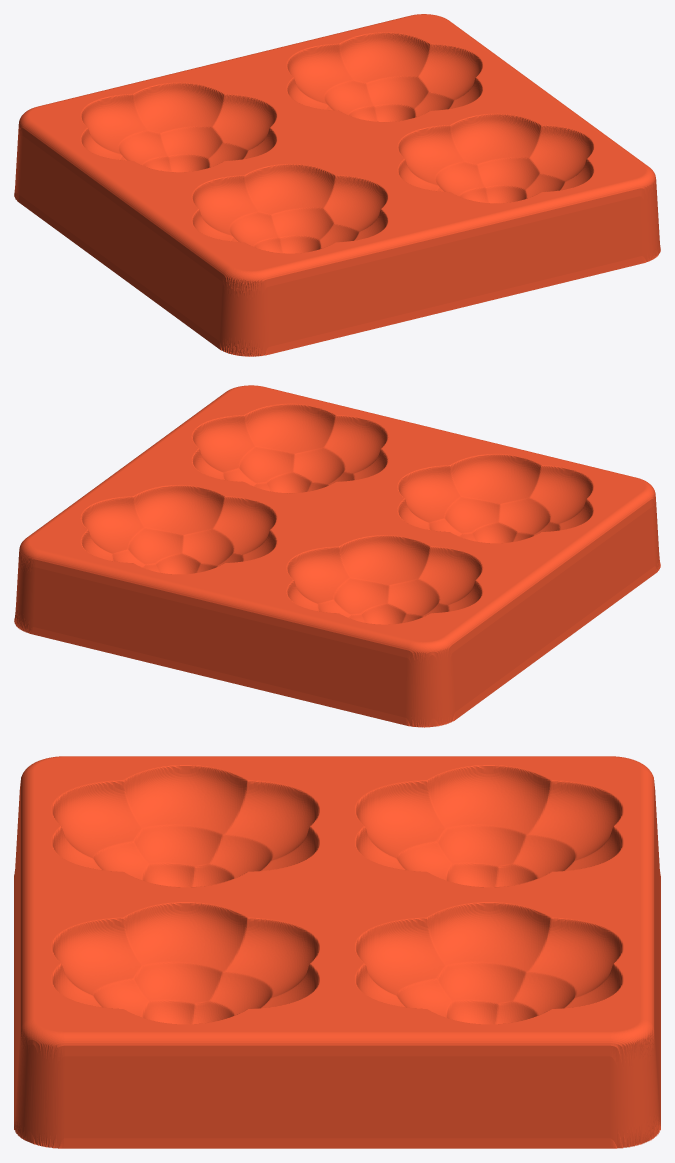
File: mold.glb
3 renders of one model, top to bottom at view 1: azimuth 30°, elevation 25°; view 2: azimuth 150°, elevation 25°; view 3: azimuth 270°, elevation 25°, orthographic. The views are drawn at different scales.
Visible parts, largest first — view 1: geometry_0; view 2: geometry_0; view 3: geometry_0.
Part boxes in pixels (x1,y1,x2,y2): geometry_0: [14, 14, 660, 356]; geometry_0: [14, 385, 660, 727]; geometry_0: [14, 756, 660, 1148].
Size of the model in its own units: 0.1225 by 0.0213 by 0.115.
